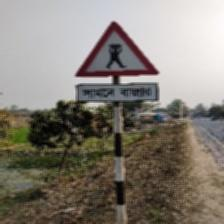Market-in-front: (74, 21, 161, 104)
